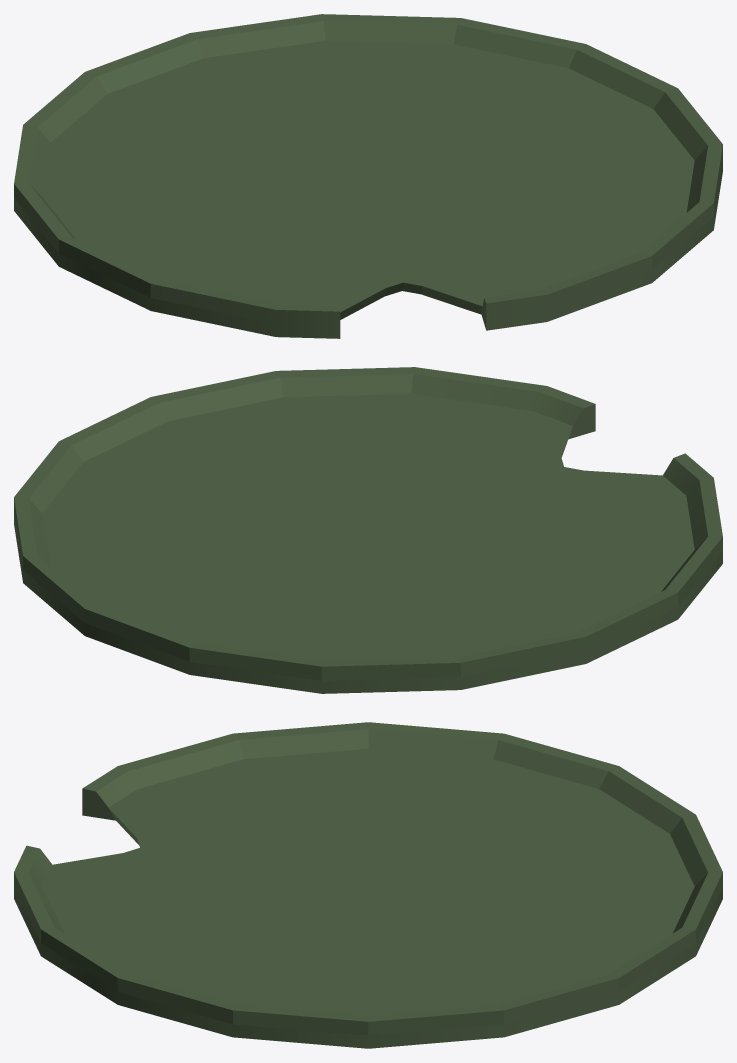
Rendered from LilypadRound.fbx.
3 views of the same model, one above another, from view 1: azimuth 30°, elevation 25°; view 2: azimuth 150°, elevation 25°; view 3: azimuth 270°, elevation 25° (orthographic).
Parts seen in each view (by area): view 1: pCylinder1; view 2: pCylinder1; view 3: pCylinder1.
Boxes of the visible parts, bbox=[...] form: pCylinder1: bbox=[14, 14, 722, 338]; pCylinder1: bbox=[14, 367, 722, 693]; pCylinder1: bbox=[14, 722, 722, 1048].
Size of the model in its own units: 4.8 by 0.2016 by 4.8.
